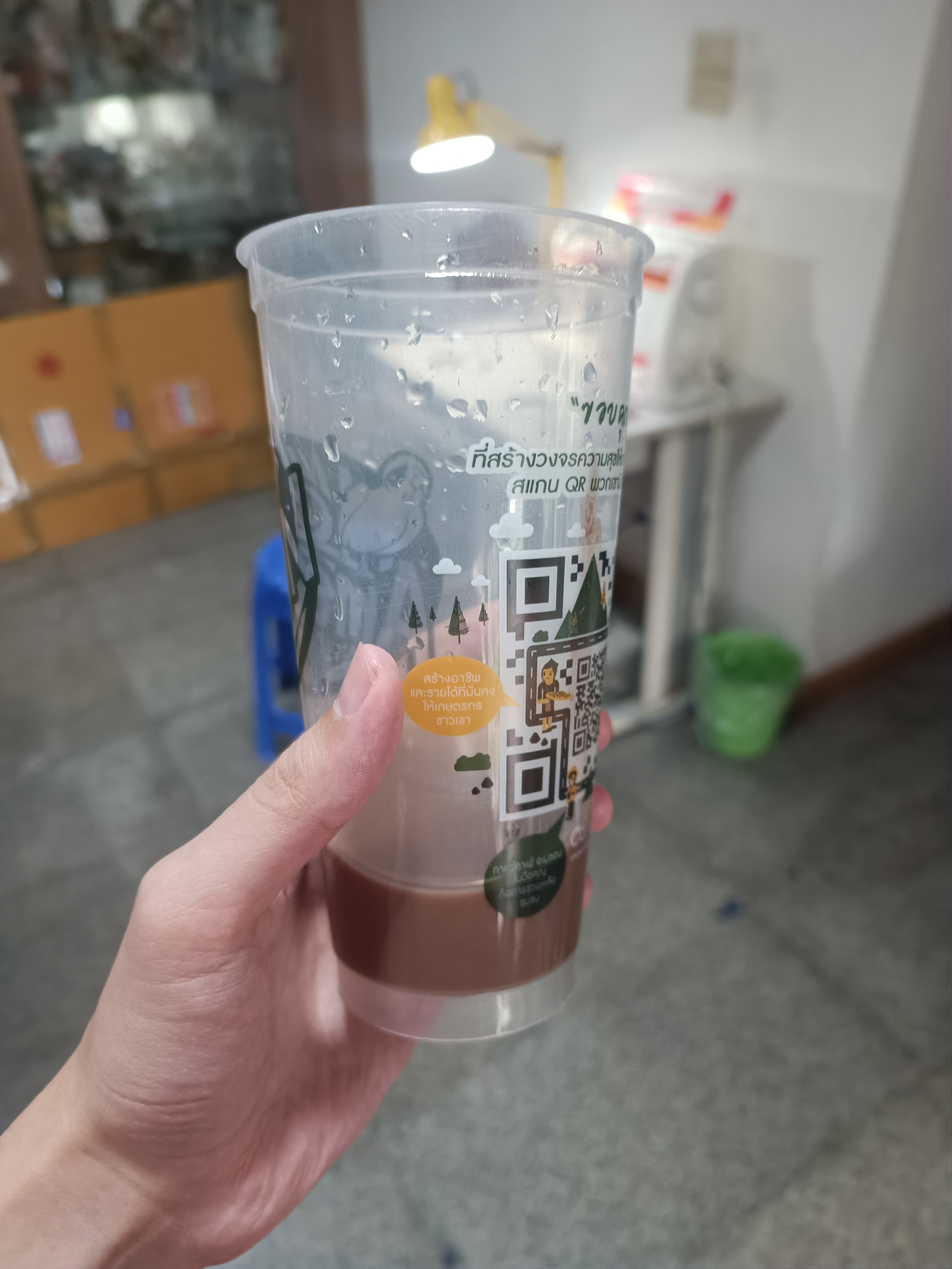plastic: (230, 176, 653, 1070)
